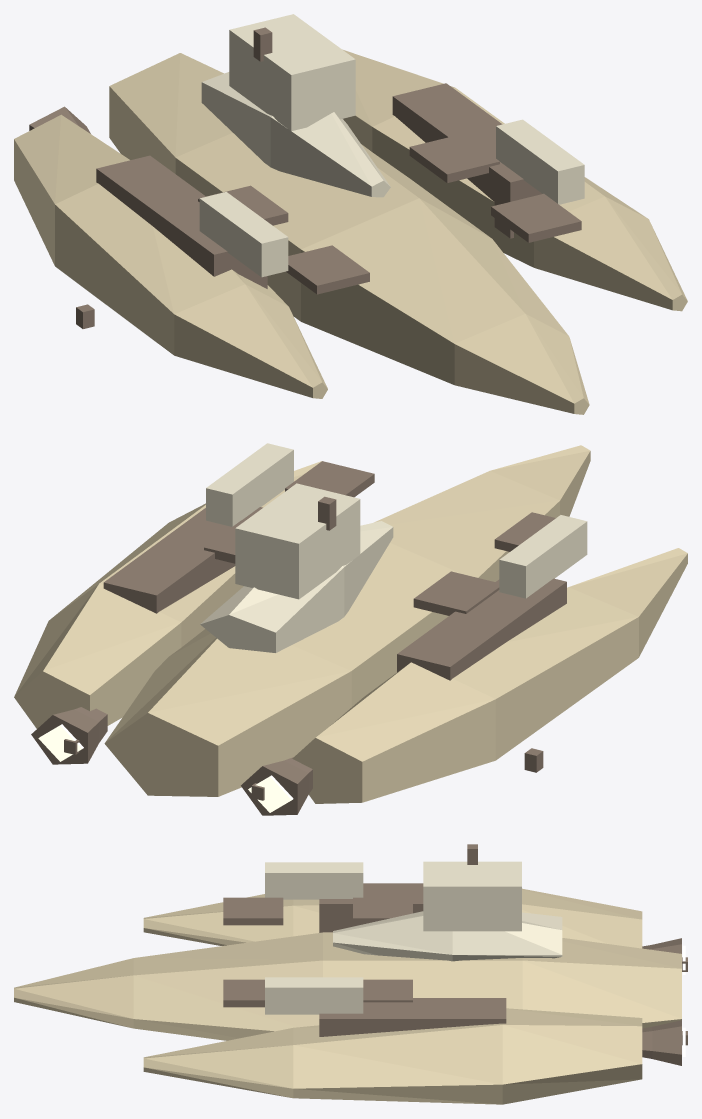
The picture shows the model from 3 angles, top to bottom: view 1: azimuth 30°, elevation 25°; view 2: azimuth 150°, elevation 25°; view 3: azimuth 270°, elevation 25°; orthographic projection. The views are drawn at different scales.
Bounding box in the file's own units: 17.68 × 8.38 × 27.38.
